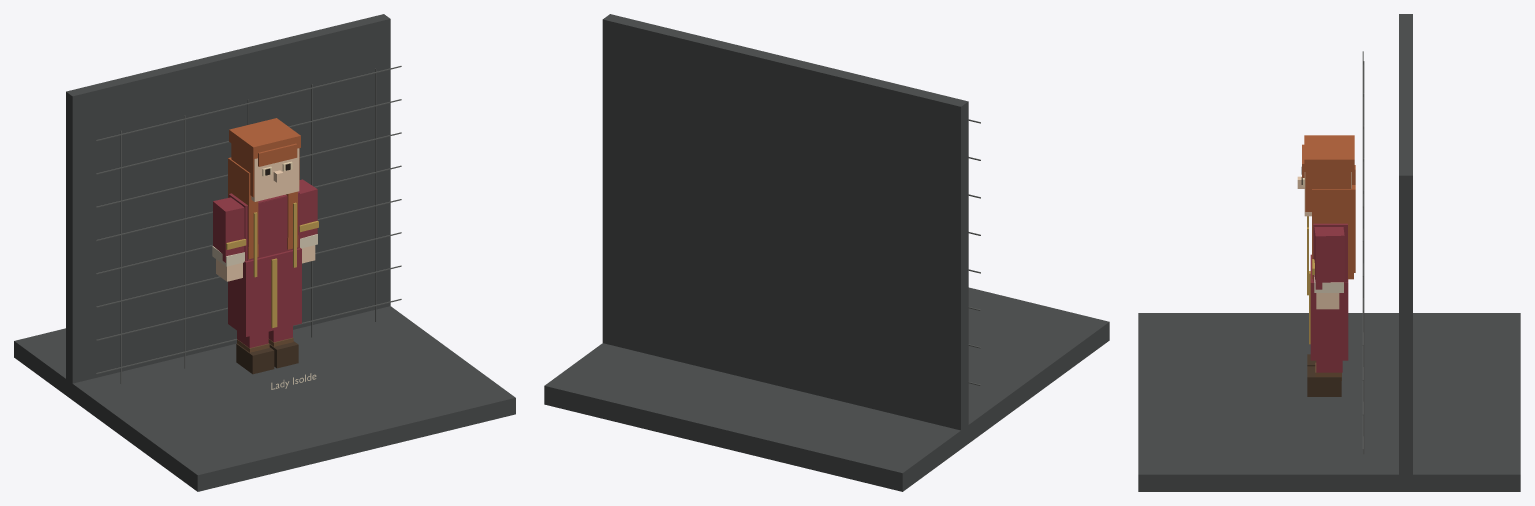
File: Noblewoman.fbx
3 views of the same model, side by side, from view 1: azimuth 30°, elevation 25°; view 2: azimuth 150°, elevation 25°; view 3: azimuth 270°, elevation 25° (orthographic). The views are drawn at different scales.
Visible parts, largest first — view 1: Isolde Preview Wall, Isolde Preview Floor, Lady Isolde | long skirt, Lady Isolde | hair cap, Lady Isolde | torso, Lady Isolde | L upper arm, Lady Isolde | head, Lady Isolde | extra long hair lock, Lady Isolde | R upper arm, Lady Isolde | L boot, Backdrop grid horizontal.007, Lady Isolde | fringe (+1 smaller); view 2: Isolde Preview Wall, Isolde Preview Floor; view 3: Isolde Preview Floor, Isolde Preview Wall, Lady Isolde | long skirt, Lady Isolde | extra long hair lock.001, Lady Isolde | hair cap, Lady Isolde | R upper arm, Lady Isolde | side hair.001, Lady Isolde | R boot, Backdrop grid vertical.004, Lady Isolde | coat body.
Boxes of the visible parts, x1=… form: Isolde Preview Wall: x1=66, y1=14, x2=390, y2=395; Isolde Preview Floor: x1=14, y1=306, x2=515, y2=491; Lady Isolde | long skirt: x1=228, y1=248, x2=301, y2=336; Lady Isolde | hair cap: x1=229, y1=118, x2=300, y2=159; Lady Isolde | torso: x1=247, y1=196, x2=297, y2=260; Lady Isolde | L upper arm: x1=213, y1=197, x2=244, y2=262; Lady Isolde | head: x1=251, y1=148, x2=299, y2=201; Lady Isolde | extra long hair lock: x1=228, y1=157, x2=258, y2=253; Lady Isolde | R upper arm: x1=298, y1=179, x2=317, y2=238; Lady Isolde | L boot: x1=236, y1=343, x2=274, y2=374; Backdrop grid horizontal.007: x1=96, y1=66, x2=401, y2=141; Lady Isolde | fringe: x1=258, y1=143, x2=297, y2=166; Isolde Preview Wall: x1=602, y1=14, x2=968, y2=430; Isolde Preview Floor: x1=544, y1=287, x2=1109, y2=491; Isolde Preview Floor: x1=1138, y1=313, x2=1520, y2=491; Isolde Preview Wall: x1=1399, y1=14, x2=1412, y2=487; Lady Isolde | long skirt: x1=1310, y1=254, x2=1348, y2=360; Lady Isolde | extra long hair lock.001: x1=1312, y1=185, x2=1355, y2=272; Lady Isolde | hair cap: x1=1304, y1=135, x2=1354, y2=171; Lady Isolde | R upper arm: x1=1314, y1=227, x2=1344, y2=289; Lady Isolde | side hair.001: x1=1305, y1=172, x2=1351, y2=211; Lady Isolde | R boot: x1=1307, y1=366, x2=1341, y2=396; Backdrop grid vertical.004: x1=1363, y1=190, x2=1364, y2=454; Lady Isolde | coat body: x1=1313, y1=223, x2=1347, y2=282.
Size of the model in its own units: 500 by 457 by 500.
